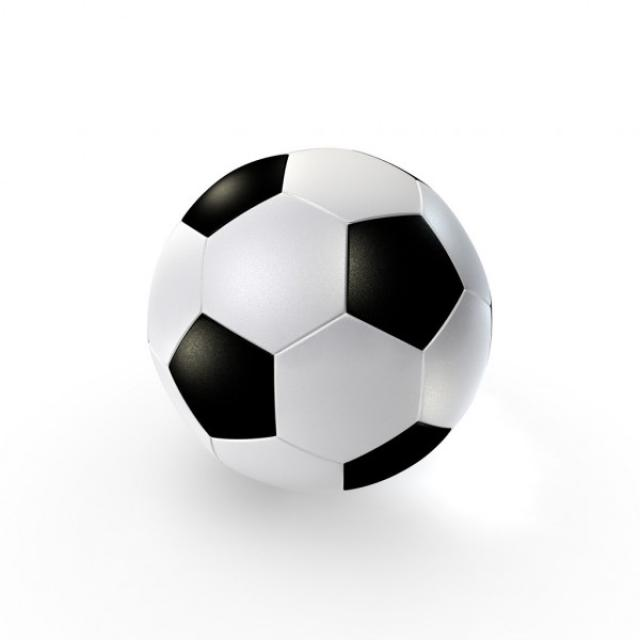soccer ball: (145, 143, 497, 501)
